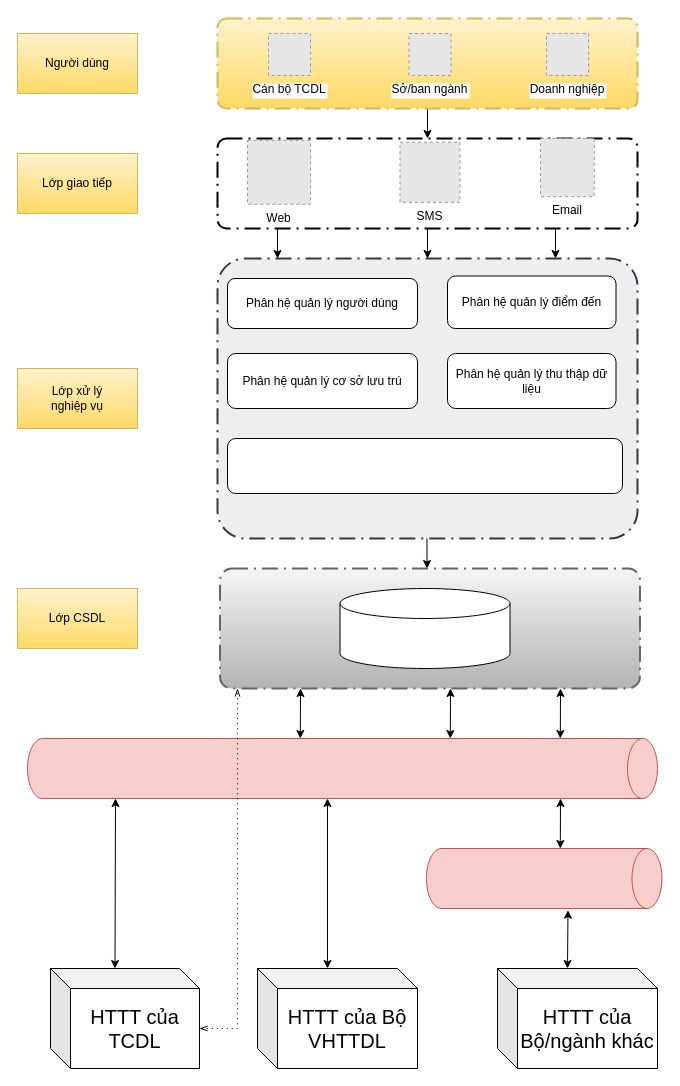
This 680x1086 diagram has some shape labels left out. Grey dashed boxes stand in for pictures. Here are the shapes that lost their labels. From the top down, the box of each, then its label:
(226, 438, 622, 494): Phân hệ quản lý nghiên cứu khoa học
(339, 588, 510, 668): CSDL
(26, 738, 658, 798): LGSP
(425, 848, 662, 908): NGSP
